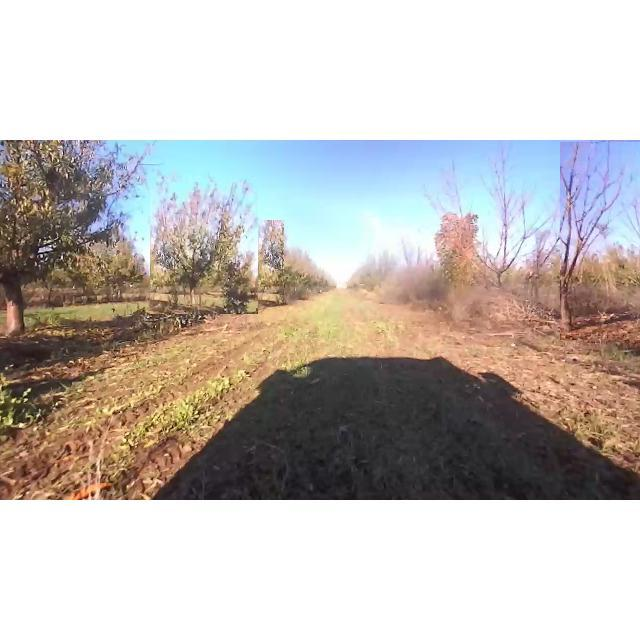direk: (0, 142, 150, 336), (428, 161, 550, 291), (560, 142, 640, 340), (150, 182, 258, 314), (424, 208, 484, 290), (232, 220, 284, 304)
